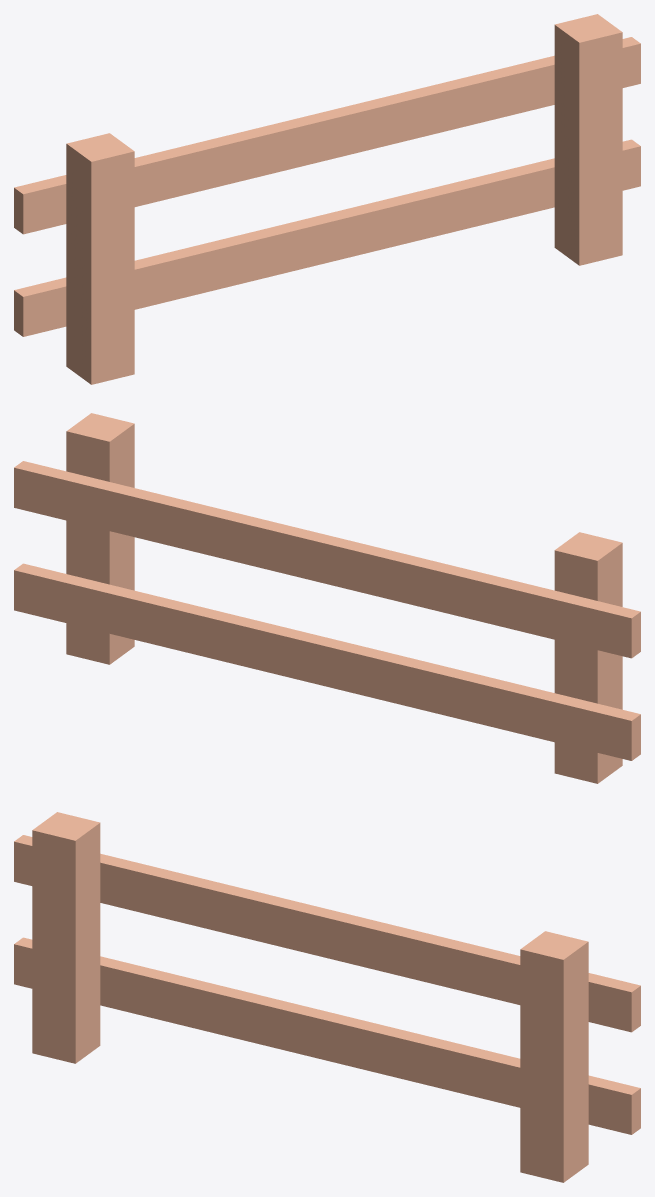
Rendered from fence_planks.glb.
3 views of the same model, one above another, from view 1: azimuth 30°, elevation 25°; view 2: azimuth 150°, elevation 25°; view 3: azimuth 330°, elevation 25° (orthographic).
Visible parts, largest first — view 1: fence_planks; view 2: fence_planks; view 3: fence_planks.
Part boxes in pixels (left/top/right/bottom): fence_planks: left=14, top=14, right=640, bottom=384; fence_planks: left=14, top=413, right=640, bottom=783; fence_planks: left=14, top=812, right=640, bottom=1182.
Size of the model in its own units: 1 by 0.345 by 0.0959.
1 material, 1 textured.
